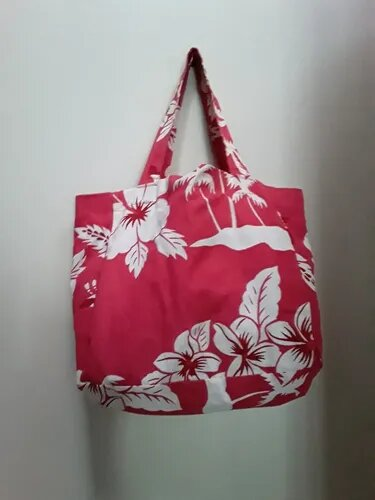cartera: (65, 35, 329, 418)
lona: (67, 161, 327, 421)
